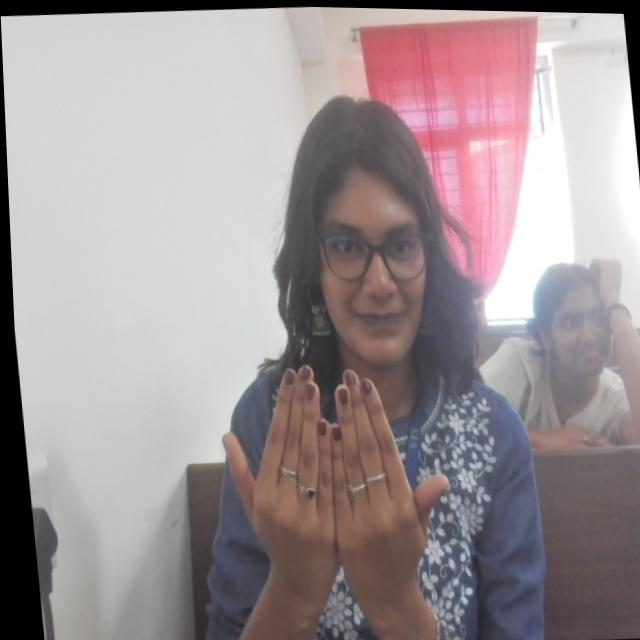thankyou: (208, 349, 457, 612)
